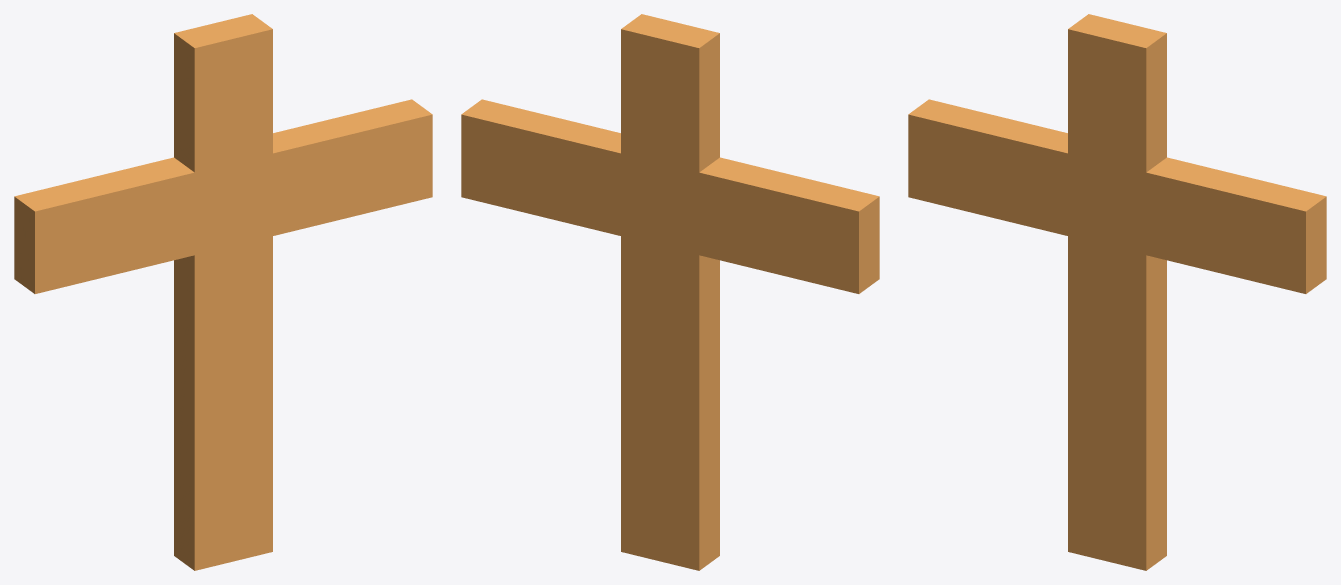
File: Cross.fbx
The picture shows the model from 3 angles, left to right: view 1: azimuth 30°, elevation 25°; view 2: azimuth 150°, elevation 25°; view 3: azimuth 330°, elevation 25°; orthographic projection.
Parts seen in each view (by area): view 1: Cross; view 2: Cross; view 3: Cross.
Boxes of the visible parts, <box> form: Cross: <box>14,14,432,570</box>; Cross: <box>461,14,879,570</box>; Cross: <box>908,14,1326,570</box>.
Size of the model in its own units: 1144 by 1436 by 103.
